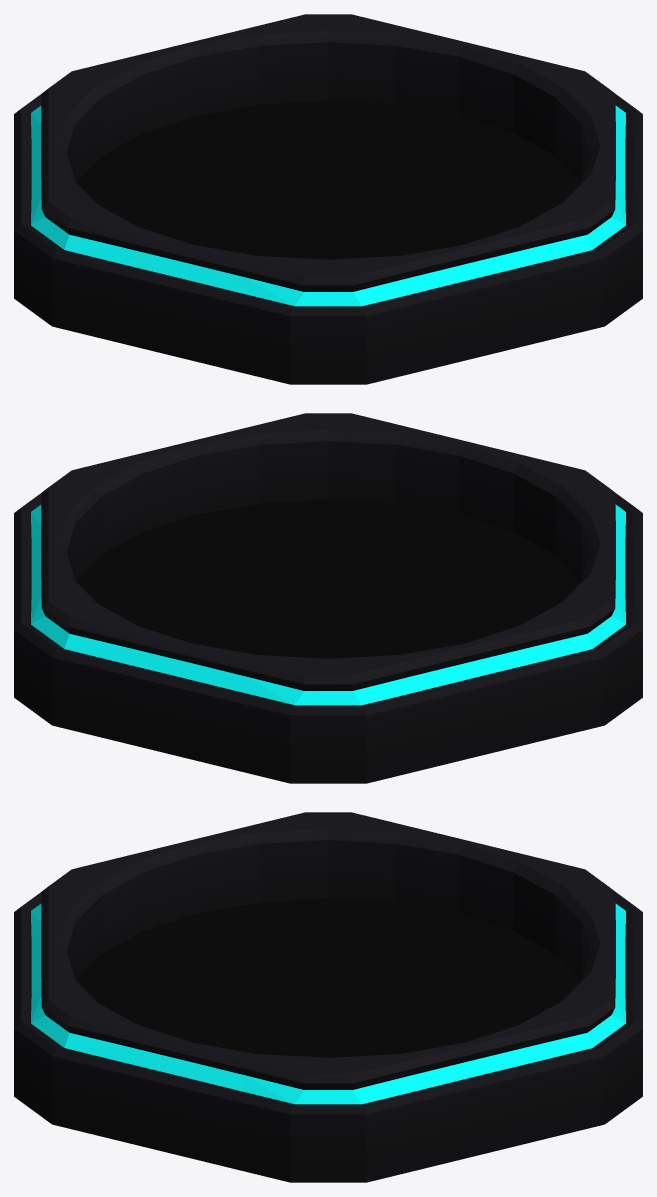
3 views of the same model, one above another, from view 1: azimuth 30°, elevation 25°; view 2: azimuth 150°, elevation 25°; view 3: azimuth 270°, elevation 25° (orthographic).
Parts seen in each view (by area): view 1: Base_1_Object; view 2: Base_1_Object; view 3: Base_1_Object.
Boxes of the visible parts, <box> form: Base_1_Object: <box>14,14,642,384</box>; Base_1_Object: <box>14,413,642,783</box>; Base_1_Object: <box>14,812,642,1182</box>.
Size of the model in its own units: 0.789 by 0.1216 by 0.7275.
1 material, 1 textured.
